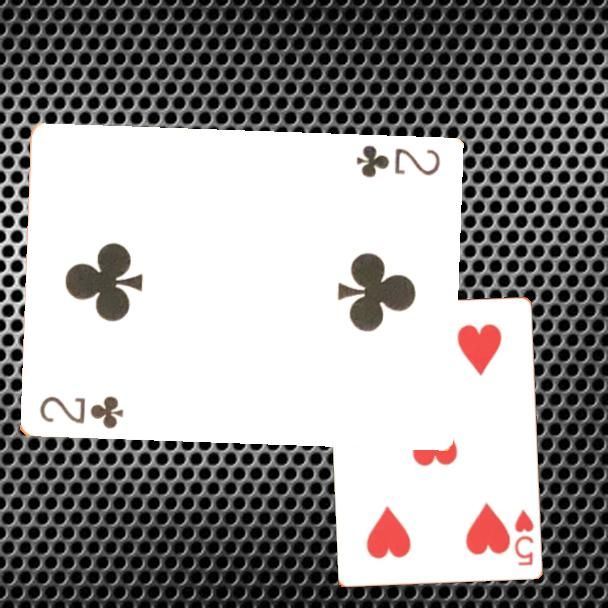c02: (36, 393, 126, 433), (352, 142, 443, 181)
h05: (511, 506, 537, 569)
